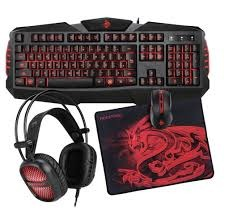keyboard: (10, 18, 206, 94)
mouse: (145, 90, 174, 132)
